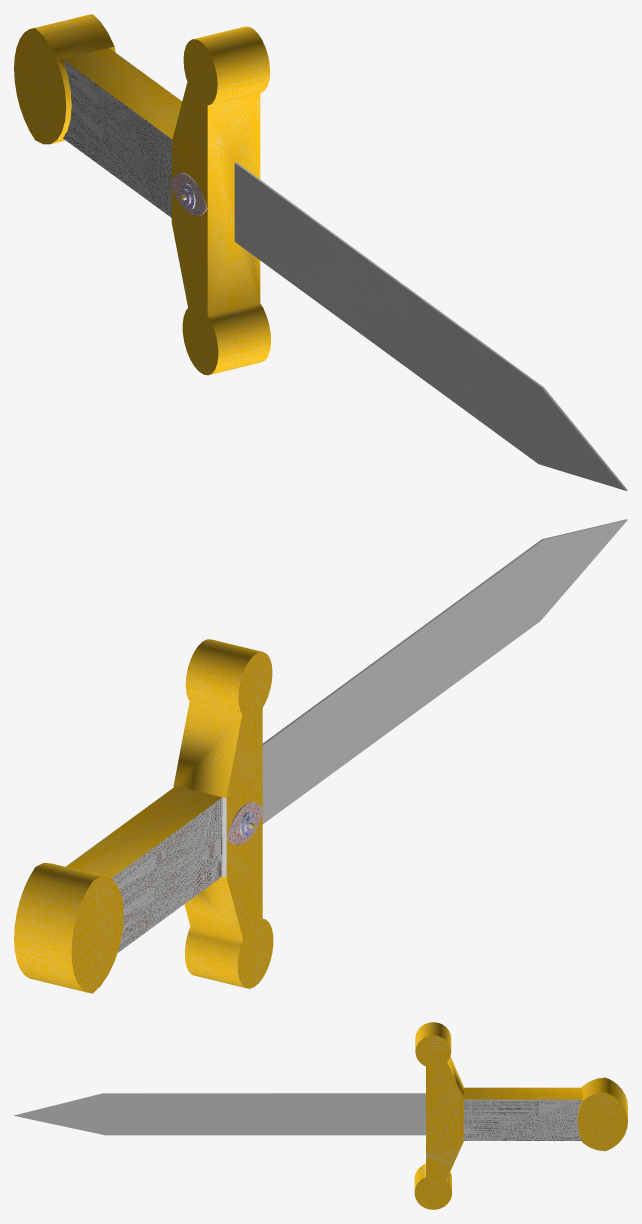
File: model_align.obj
3 renders of one model, top to bottom at view 1: azimuth 30°, elevation 25°; view 2: azimuth 150°, elevation 25°; view 3: azimuth 270°, elevation 25°, orthographic. The views are drawn at different scales.
Parts seen in each view (by area): view 1: mesh1_mesh1-geometry; view 2: mesh1_mesh1-geometry; view 3: mesh1_mesh1-geometry.
Part boxes in pixels (x1,y1,x2,y2): mesh1_mesh1-geometry: (14, 14, 627, 490); mesh1_mesh1-geometry: (14, 519, 627, 993); mesh1_mesh1-geometry: (14, 1022, 627, 1209).
Bounding box in the file's own units: 0.0148 × 0.0721 × 0.2303.
